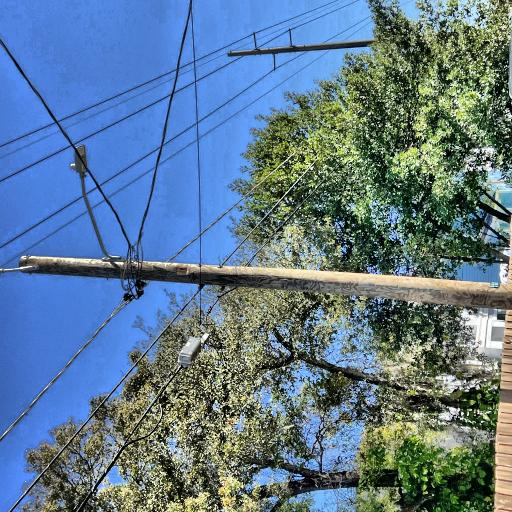pole: (67, 131, 135, 512)
street light: (122, 192, 227, 252)
